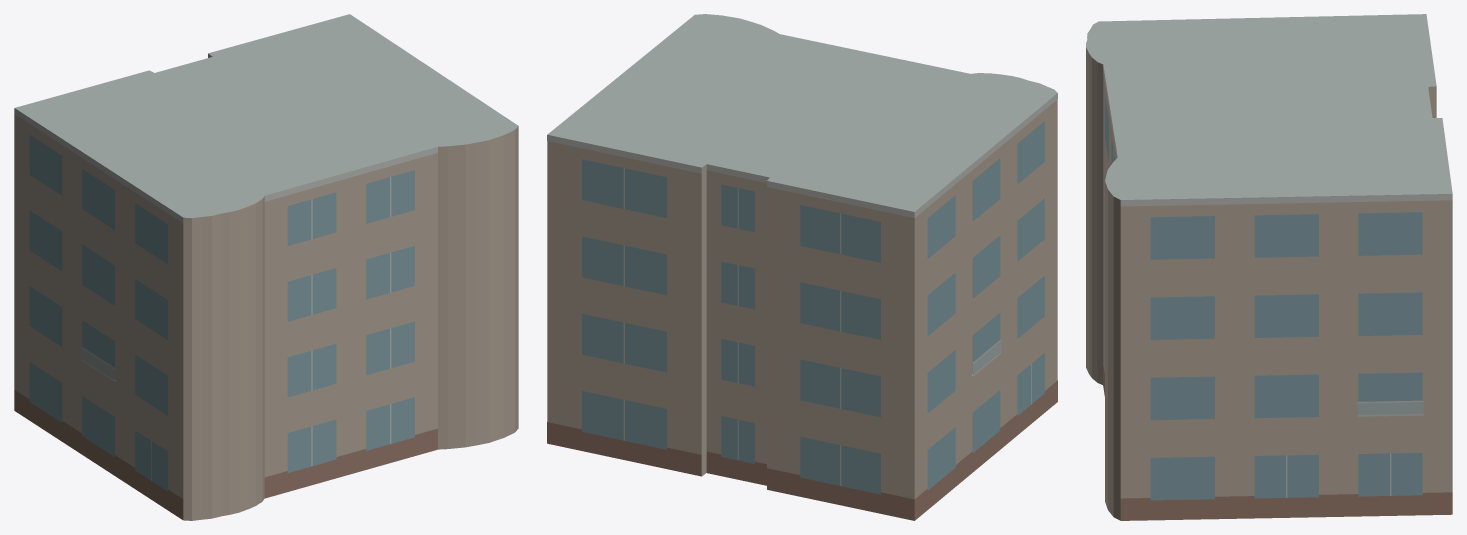
The model's file is survey-upis-32727690.glb.
3 views of the same model, side by side, from view 1: azimuth 30°, elevation 25°; view 2: azimuth 150°, elevation 25°; view 3: azimuth 270°, elevation 25° (orthographic). The views are drawn at different scales.
Visible parts, largest first — view 1: survey-upis-32727690.tmp; view 2: survey-upis-32727690.tmp; view 3: survey-upis-32727690.tmp.
Part boxes in pixels (x1=…): survey-upis-32727690.tmp: x1=14, y1=14, x2=518, y2=520; survey-upis-32727690.tmp: x1=547, y1=14, x2=1057, y2=520; survey-upis-32727690.tmp: x1=1086, y1=14, x2=1452, y2=520.
Bounding box in the file's own units: 15.18 × 12.2 × 12.64.
